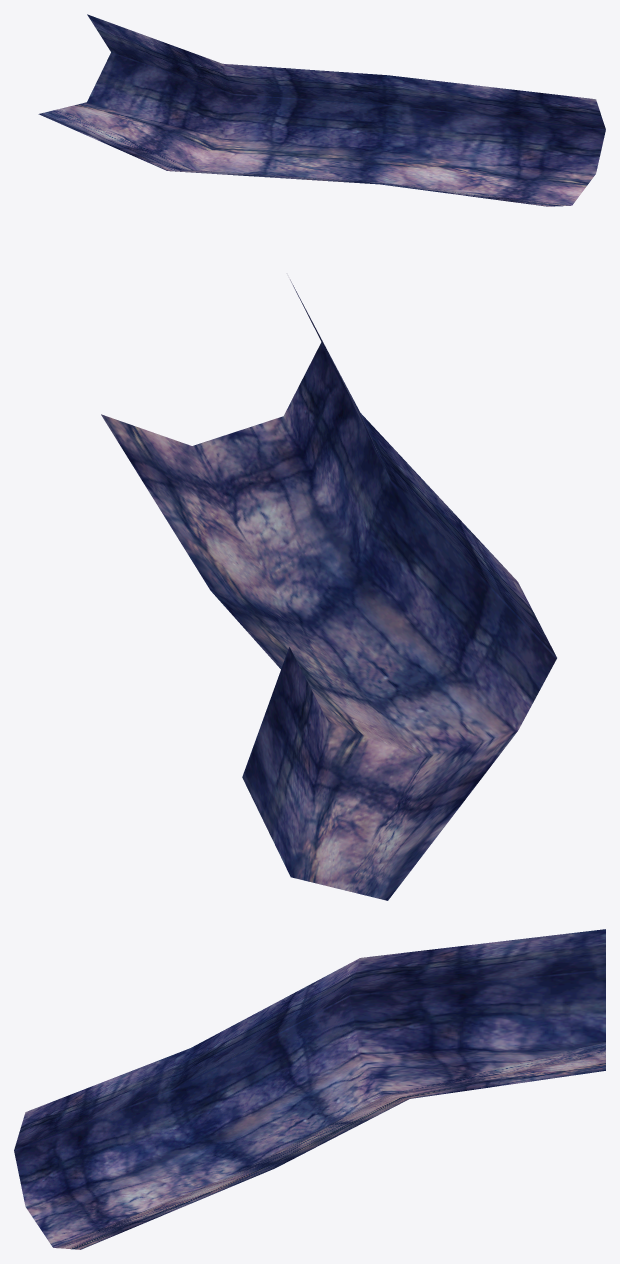
3 renders of one model, top to bottom at view 1: azimuth 30°, elevation 25°; view 2: azimuth 150°, elevation 25°; view 3: azimuth 270°, elevation 25°, orthographic. The views are drawn at different scales.
Parts seen in each view (by area): view 1: 06; view 2: 06; view 3: 06.
Part boxes in pixels (box(x1,y1,x2,y2)): 06: box(38, 14, 605, 206); 06: box(101, 279, 556, 900); 06: box(14, 929, 605, 1249).
Size of the model in its own units: 14487 by 3751 by 15039.
1 material, 1 textured.
